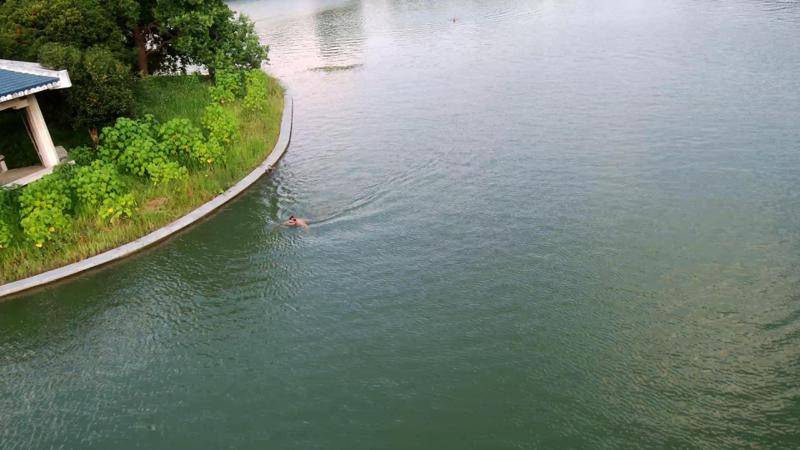swimmers: (283, 216, 311, 234)
